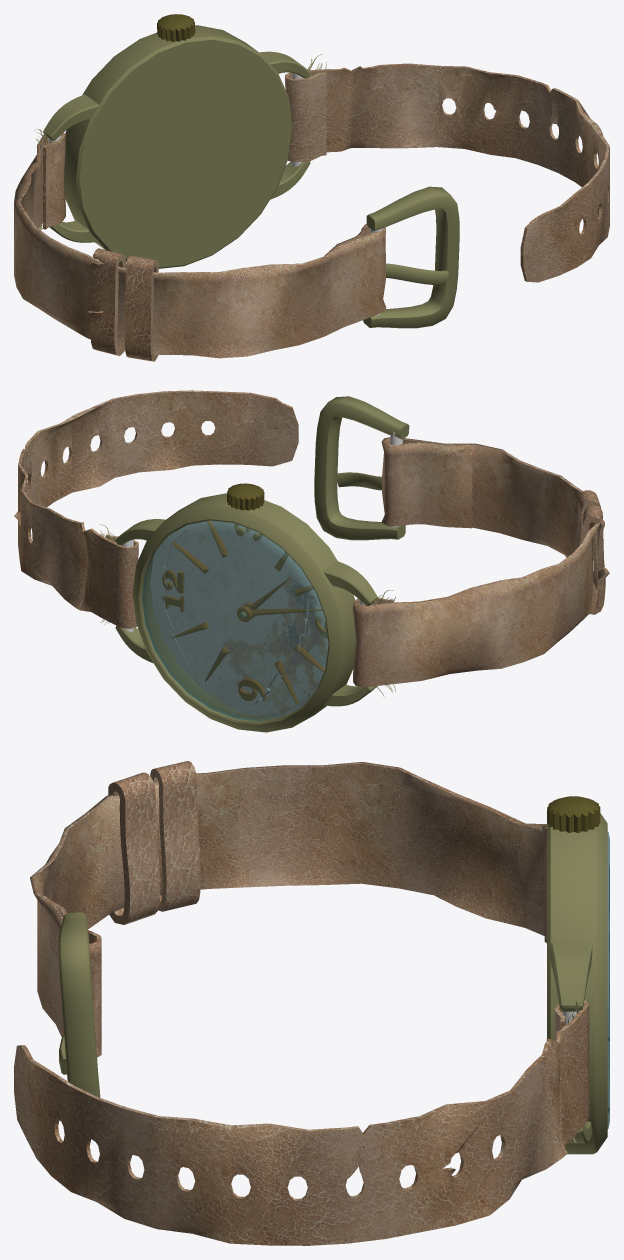
File: watches_old2.fbx
The picture shows the model from 3 angles, top to bottom: view 1: azimuth 30°, elevation 25°; view 2: azimuth 150°, elevation 25°; view 3: azimuth 270°, elevation 25°; orthographic projection. The views are drawn at different scales.
Visible parts, largest first — view 1: Cylinder003, Plane021, Plane019, Shape004, Shape007, Shape009, Box019, Line004, Box018, Box006, Box017, Group001; view 2: Cylinder003, Plane019, Plane021, Object001, Shape004, Box019, Shape009, Shape007, Box006, Box018, Line004, TextPlus006 (+2 smaller); view 3: Plane021, Plane019, Cylinder003, Shape009, Shape007, Shape004, Box018, Group001, Object001, Cylinder005.
Boxes of the visible parts, bbox=[...] form: Cylinder003: bbox=[64, 25, 292, 268]; Plane021: bbox=[285, 63, 609, 282]; Plane019: bbox=[14, 133, 386, 358]; Shape004: bbox=[363, 186, 459, 328]; Shape007: bbox=[125, 255, 158, 361]; Shape009: bbox=[87, 248, 125, 355]; Box019: bbox=[43, 94, 98, 140]; Line004: bbox=[386, 263, 448, 285]; Box018: bbox=[259, 51, 310, 78]; Box006: bbox=[49, 220, 98, 242]; Box017: bbox=[270, 161, 310, 199]; Group001: bbox=[157, 16, 195, 41]; Cylinder003: bbox=[132, 493, 355, 732]; Plane019: bbox=[353, 437, 599, 687]; Plane021: bbox=[14, 390, 298, 628]; Object001: bbox=[142, 520, 328, 721]; Shape004: bbox=[314, 396, 409, 540]; Box019: bbox=[323, 561, 377, 605]; Shape009: bbox=[582, 505, 609, 614]; Shape007: bbox=[573, 490, 600, 592]; Box006: bbox=[324, 684, 377, 706]; Box018: bbox=[115, 519, 165, 545]; Line004: bbox=[337, 472, 381, 490]; TextPlus006: bbox=[162, 570, 184, 612]; Plane021: bbox=[14, 999, 589, 1245]; Plane019: bbox=[30, 762, 546, 1057]; Cylinder003: bbox=[547, 810, 607, 1154]; Shape009: bbox=[150, 761, 200, 911]; Shape007: bbox=[108, 772, 160, 924]; Shape004: bbox=[58, 912, 100, 1097]; Box018: bbox=[550, 942, 592, 1011]; Group001: bbox=[547, 799, 600, 832]; Object001: bbox=[607, 831, 609, 1128]; Cylinder005: bbox=[551, 796, 596, 813].
Bounding box in the file's own units: 60.83 × 26.12 × 41.72.
